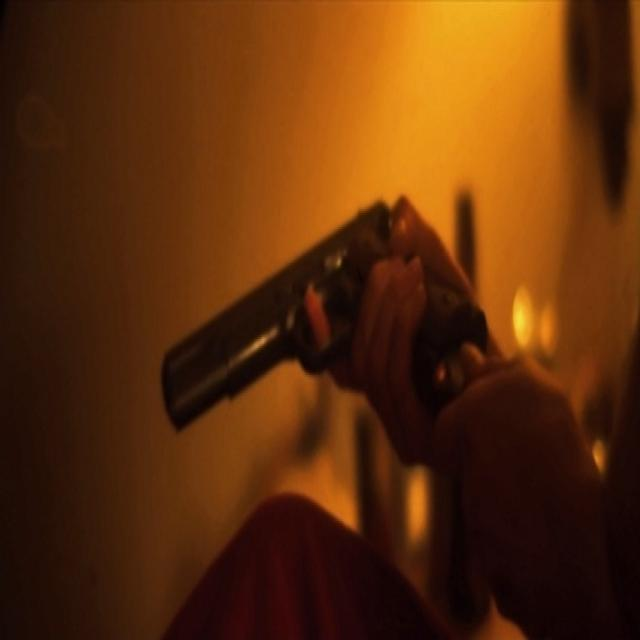gun-knife-thesis - v11 Yolov5 augmented: (168, 198, 496, 511)
